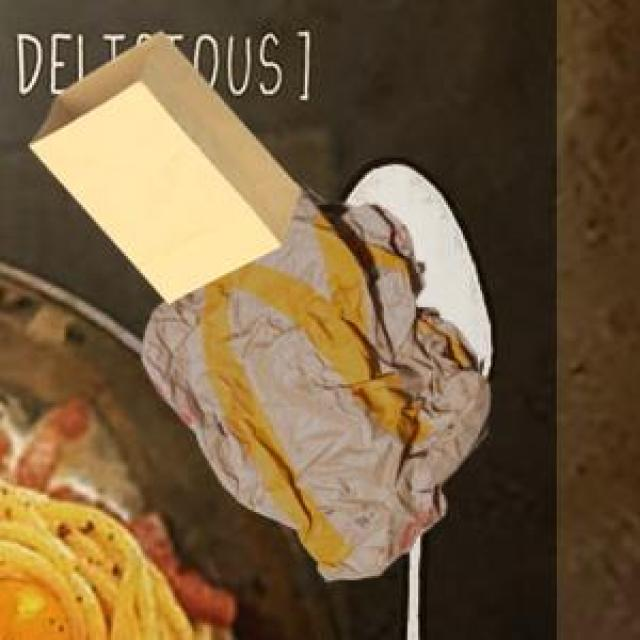Paper -Biodegradable-: (31, 26, 299, 304)
